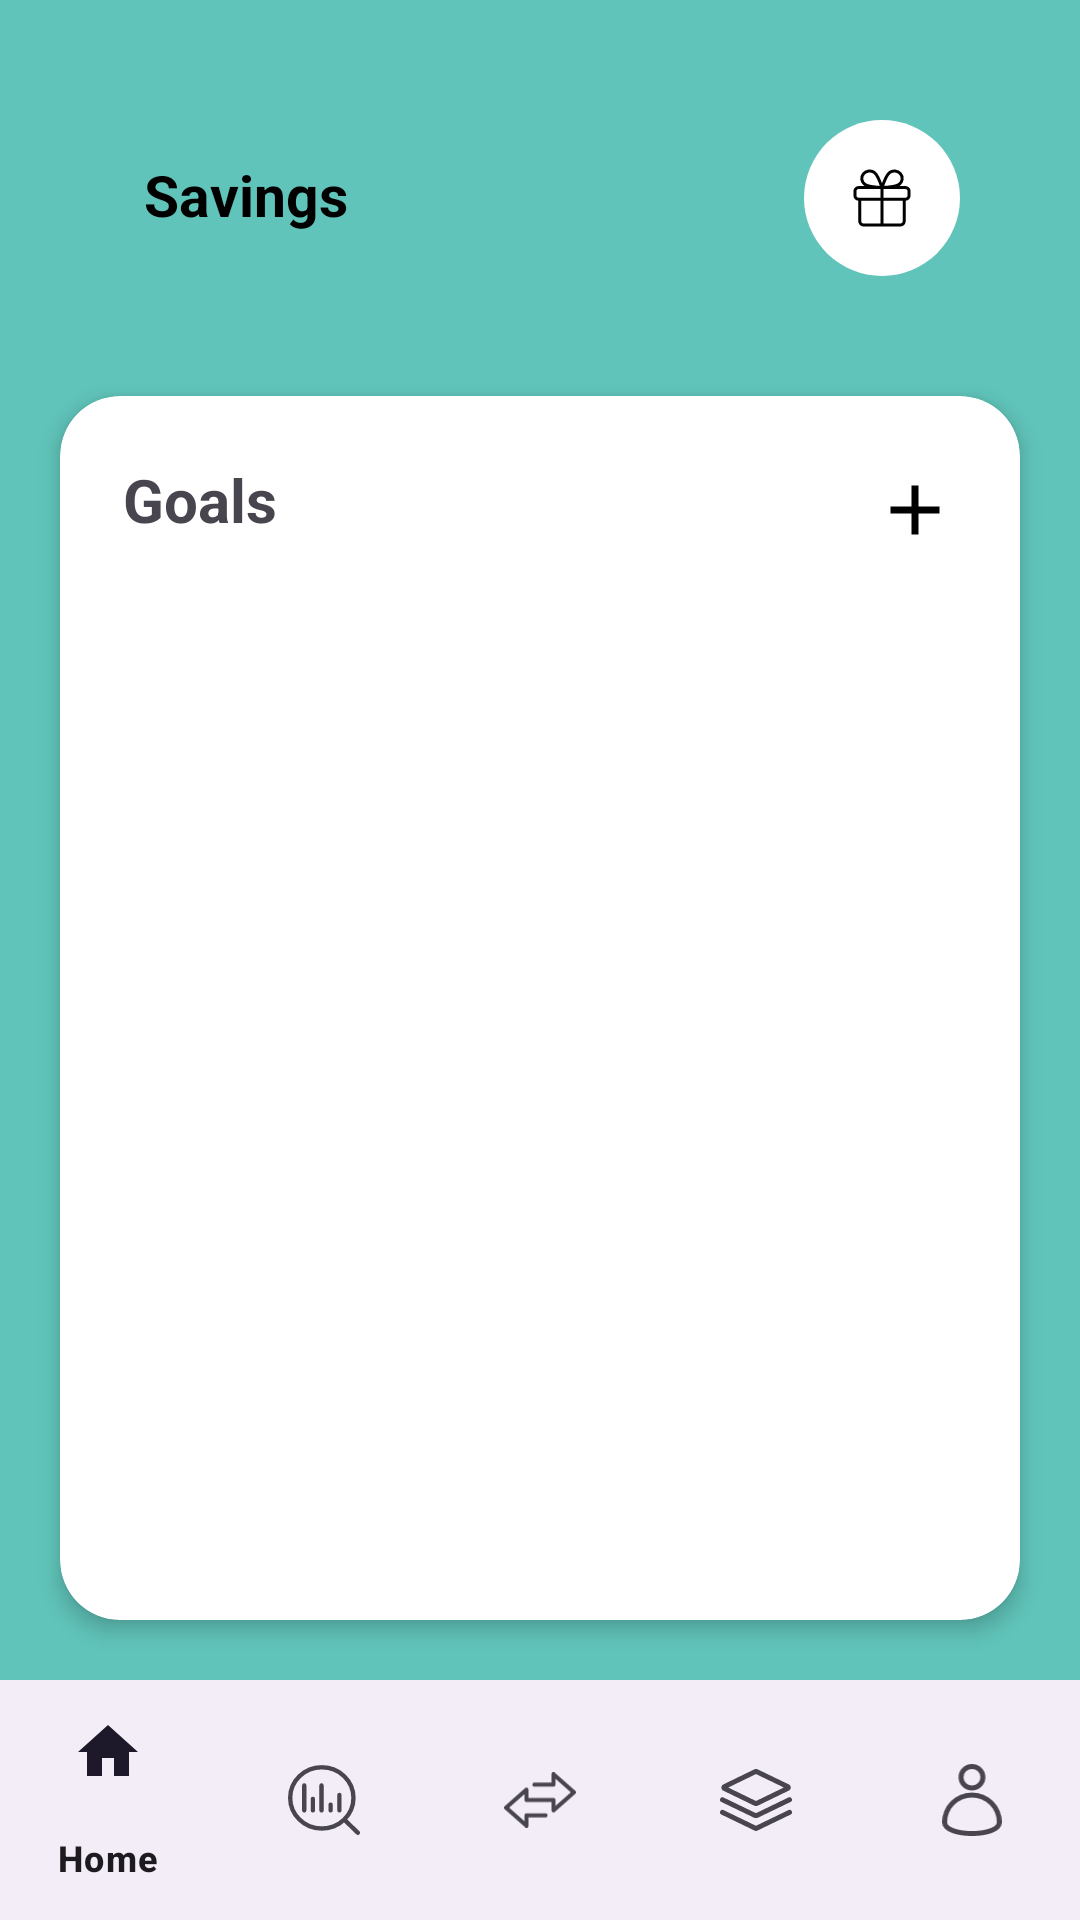

Icons on this 1080 × 1920 Android screen, each with its box as BBox(x1, y1, x2, y2):
Create a new savings goal: BBox(890, 485, 940, 535)
Rewards Button: BBox(804, 120, 960, 276)
